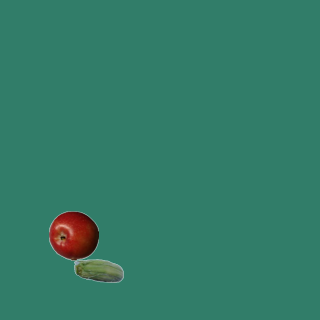Apple Braeburn: (48, 210, 98, 260)
Corn Husk: (73, 247, 123, 297)
